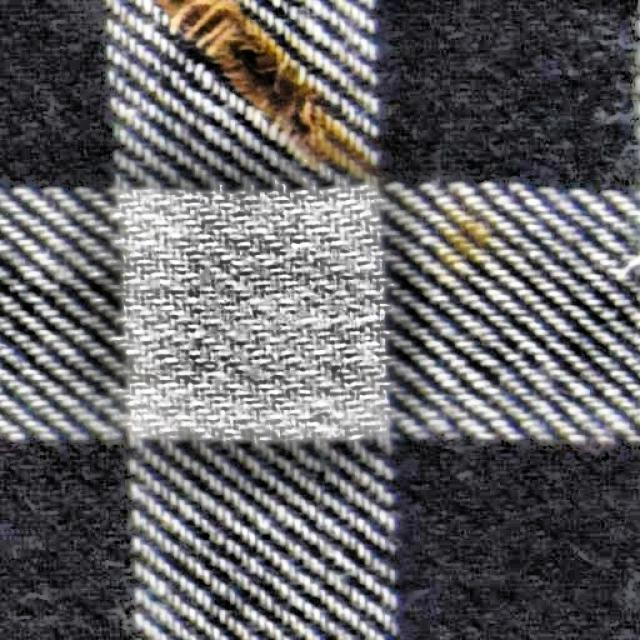gray stitch: (159, 1, 362, 184)
